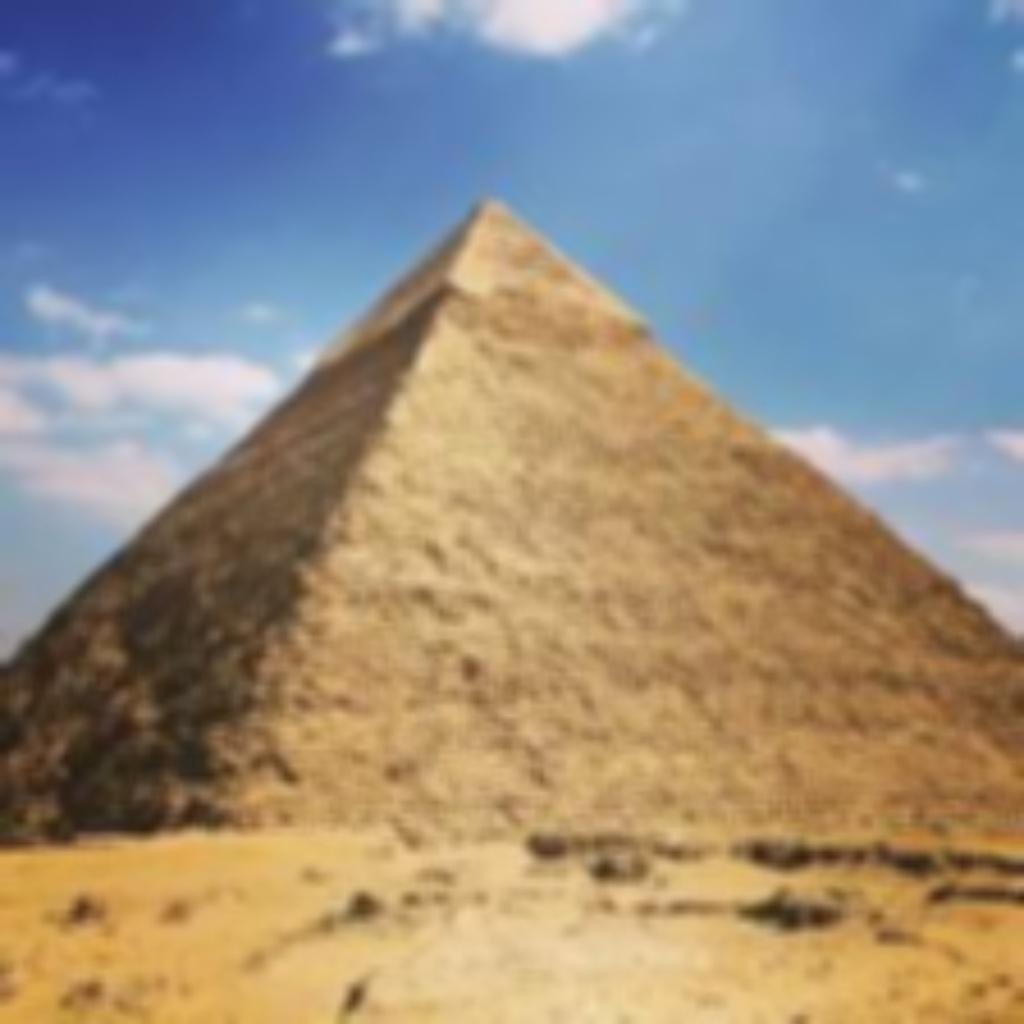Great Pyramids of Giza: (0, 188, 1019, 854)
